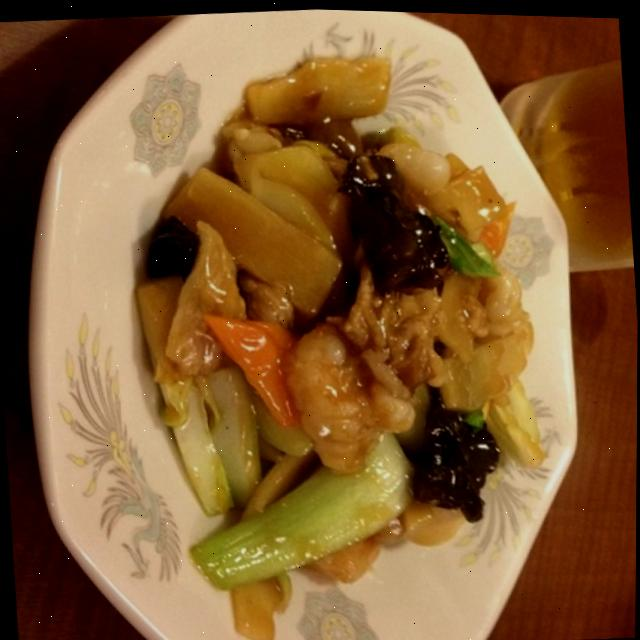米饭主食: (19, 1, 640, 640)
